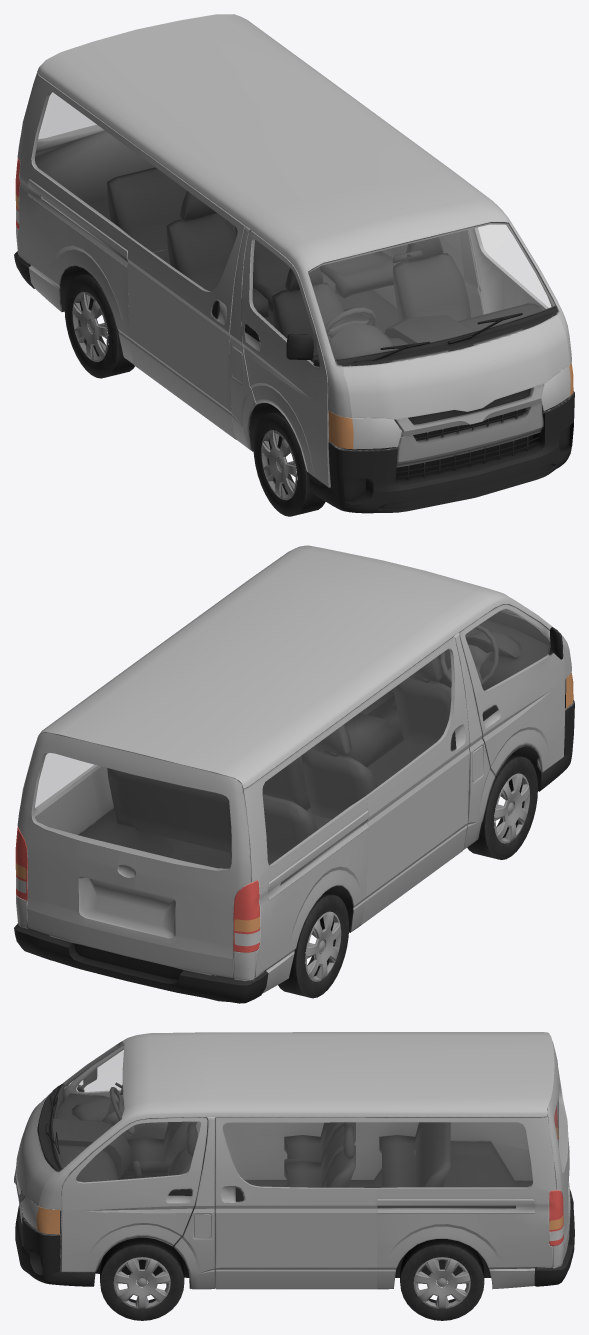
The model's file is Van.fbx.
3 renders of one model, top to bottom at view 1: azimuth 30°, elevation 25°; view 2: azimuth 150°, elevation 25°; view 3: azimuth 270°, elevation 25°, orthographic. The views are drawn at different scales.
Visible parts, largest first — view 1: Body, Windows, WheelFrontRight, WheelBackRight, DynamicLights, SteeringWheel; view 2: Body, Windows, WheelBackRight, WheelFrontRight, DynamicLights, SteeringWheel; view 3: Body, Windows, WheelFrontLeft, WheelBacktLeft, DynamicLights, SteeringWheel.
Boxes of the visible parts, x1=… form: Body: x1=14, y1=14, x2=574, y2=513; Windows: x1=32, y1=92, x2=554, y2=367; WheelFrontRight: x1=253, y1=411, x2=325, y2=516; WheelBackRight: x1=64, y1=273, x2=134, y2=378; DynamicLights: x1=15, y1=158, x2=573, y2=449; SteeringWheel: x1=324, y1=307, x2=376, y2=343; Body: x1=14, y1=545, x2=574, y2=1003; Windows: x1=32, y1=609, x2=550, y2=869; WheelBackRight: x1=278, y1=892, x2=349, y2=998; WheelFrontRight: x1=467, y1=754, x2=537, y2=859; DynamicLights: x1=15, y1=672, x2=573, y2=952; SteeringWheel: x1=440, y1=625, x2=498, y2=684; Body: x1=14, y1=1032, x2=574, y2=1289; Windows: x1=53, y1=1043, x2=567, y2=1188; WheelFrontLeft: x1=100, y1=1237, x2=184, y2=1320; WheelBacktLeft: x1=400, y1=1239, x2=484, y2=1320; DynamicLights: x1=21, y1=1105, x2=563, y2=1246; SteeringWheel: x1=105, y1=1087, x2=134, y2=1135.
Size of what is drawn, in the model's own units: 203 by 199 by 480.
